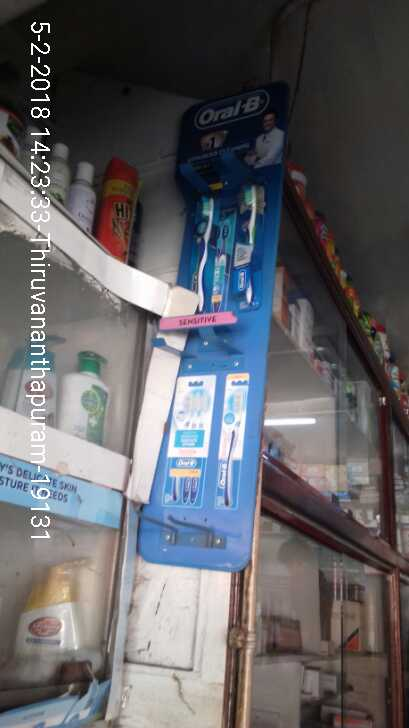oralb: (230, 182, 269, 306), (186, 191, 217, 309)
